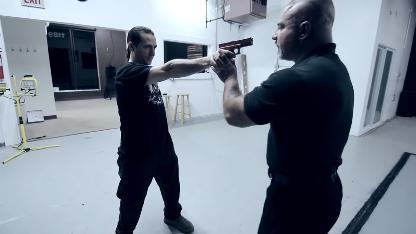pistol: (218, 35, 252, 55)
